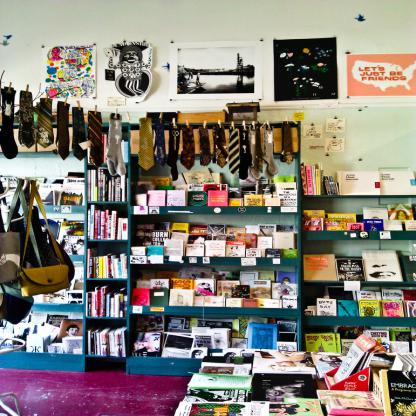book: (0, 172, 416, 416), (172, 400, 268, 416)
